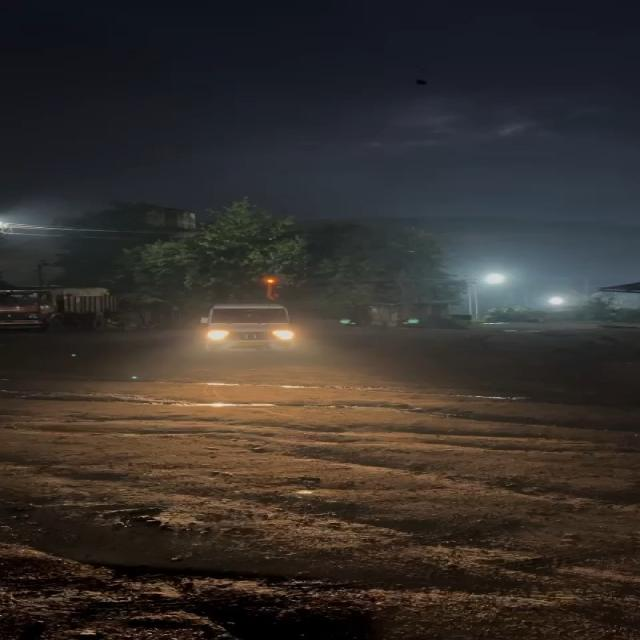light_vehicle: (200, 304, 298, 355)
